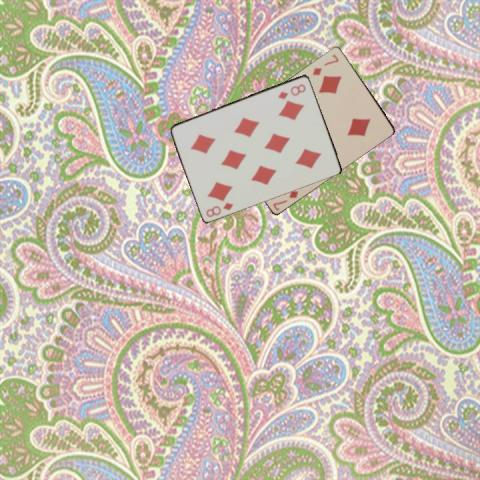7d: (309, 50, 340, 76), (270, 187, 300, 212)
8d: (203, 199, 235, 219), (275, 81, 307, 100)
